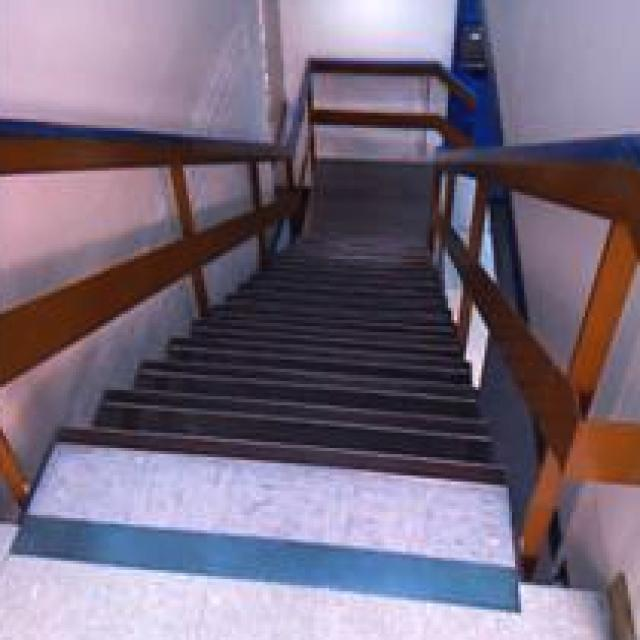downstair: (47, 306, 498, 547)
